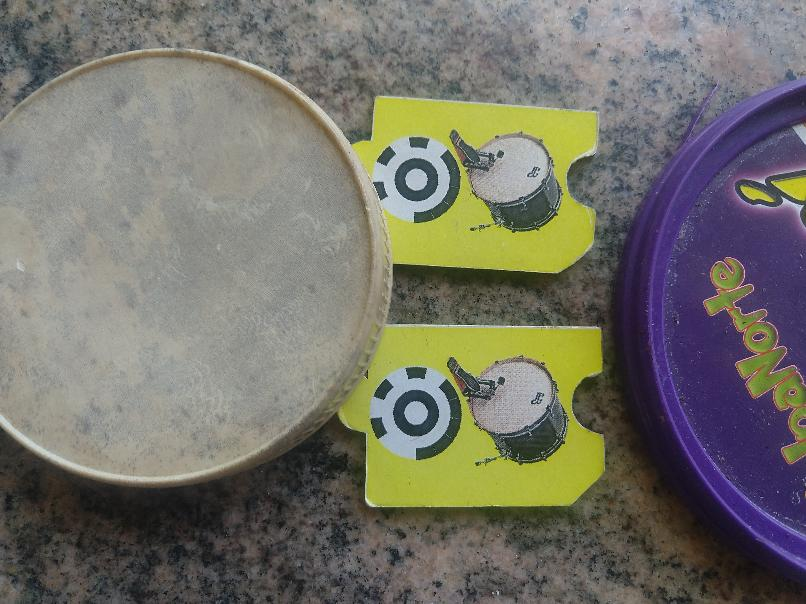bumbo: (323, 86, 602, 278), (336, 321, 607, 511)
